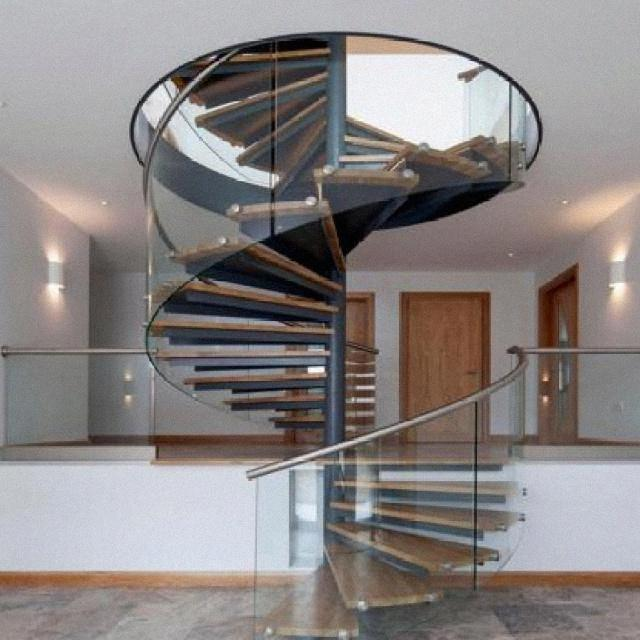stair: (130, 46, 544, 640)
